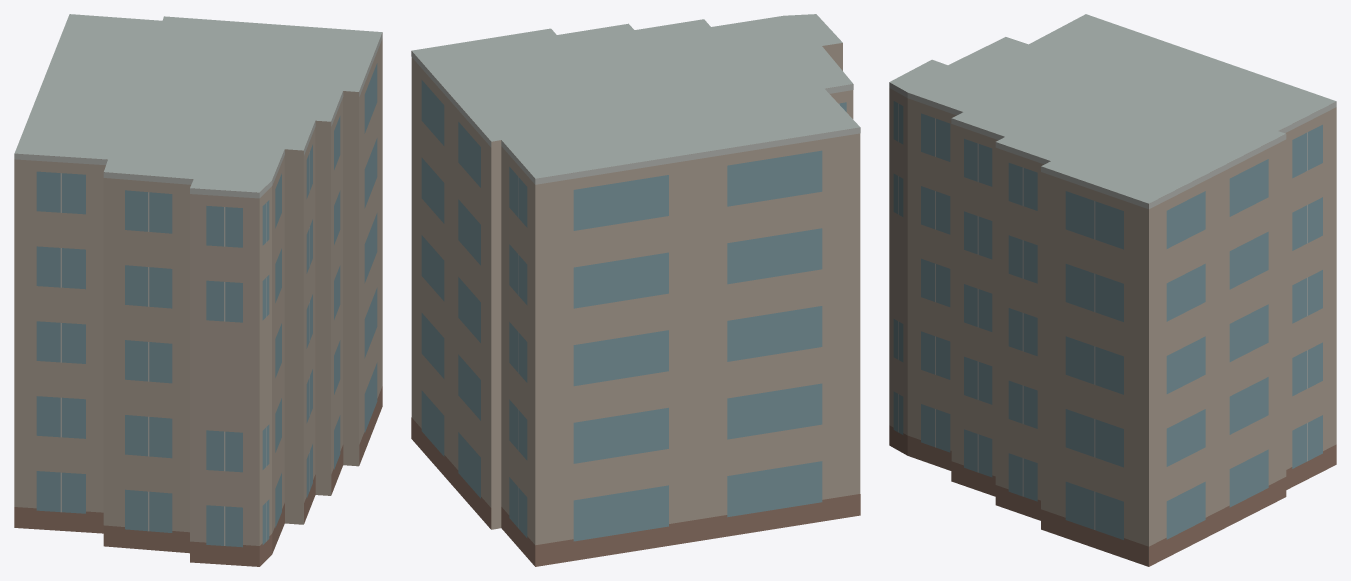
The model's file is survey-upis-32661537.glb.
The picture shows the model from 3 angles, left to right: view 1: azimuth 30°, elevation 25°; view 2: azimuth 150°, elevation 25°; view 3: azimuth 270°, elevation 25°; orthographic projection. The views are drawn at different scales.
Visible parts, largest first — view 1: survey-upis-32661537.tmp; view 2: survey-upis-32661537.tmp; view 3: survey-upis-32661537.tmp.
Boxes of the visible parts, left/top/right/bottom form: survey-upis-32661537.tmp: left=14, top=14, right=382, bottom=566; survey-upis-32661537.tmp: left=411, top=14, right=860, bottom=566; survey-upis-32661537.tmp: left=889, top=14, right=1336, bottom=566.
Size of the model in its own units: 17.48 by 15.6 by 17.42.
